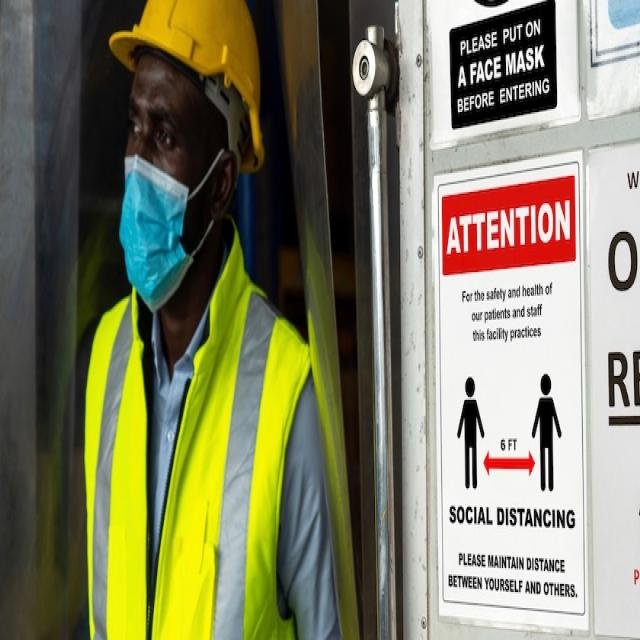helmet: (114, 0, 270, 163)
no-goggles: (114, 80, 242, 182)
vest: (83, 270, 319, 640)
